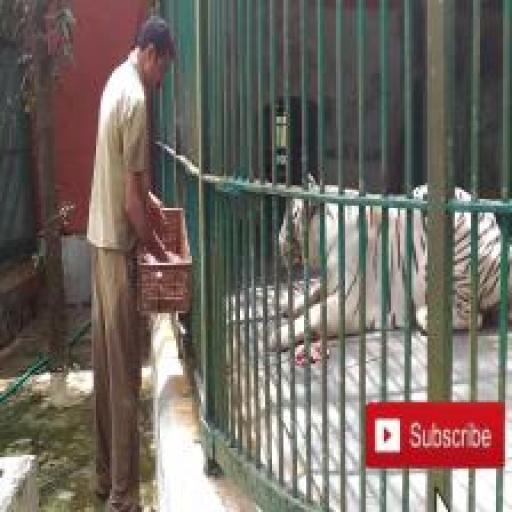Tiger: (269, 171, 512, 354)
